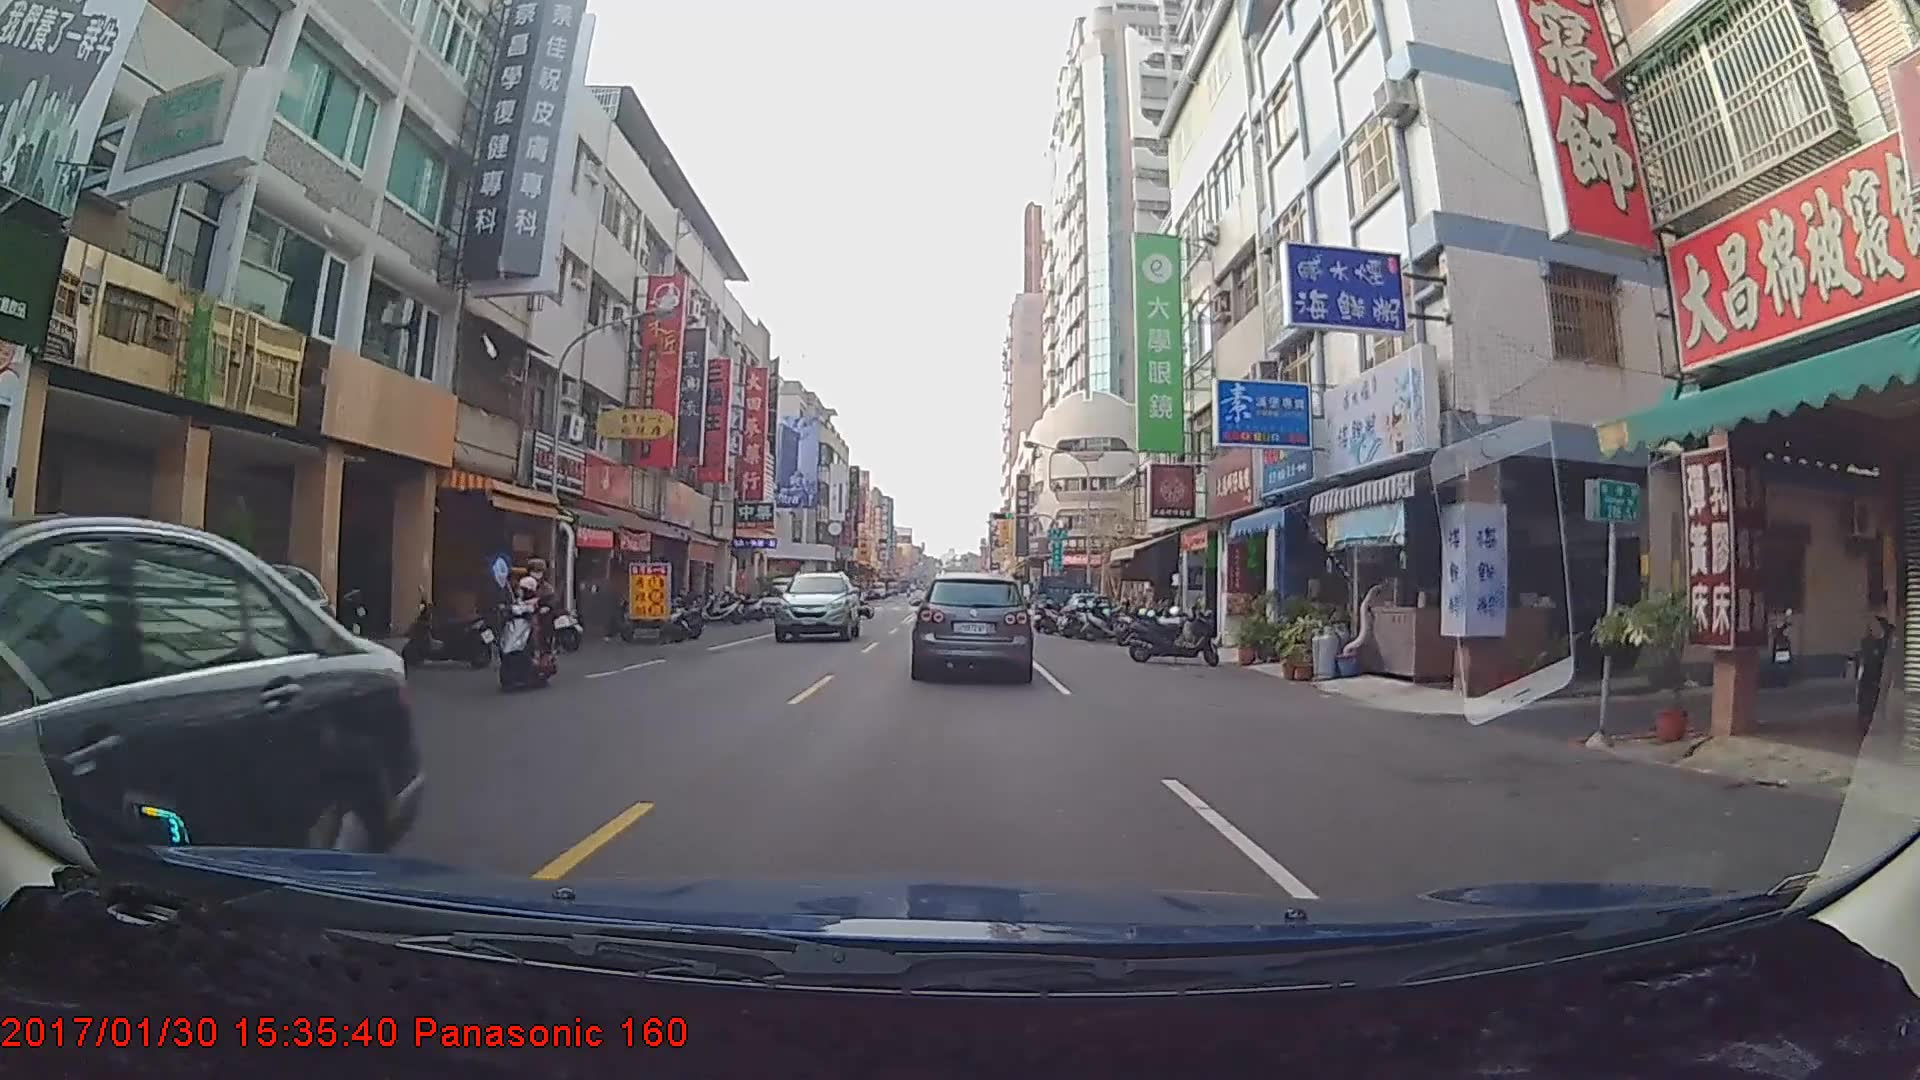vehicle: (0, 517, 425, 926), (913, 572, 1033, 680), (771, 571, 862, 644), (1029, 574, 1091, 628)
